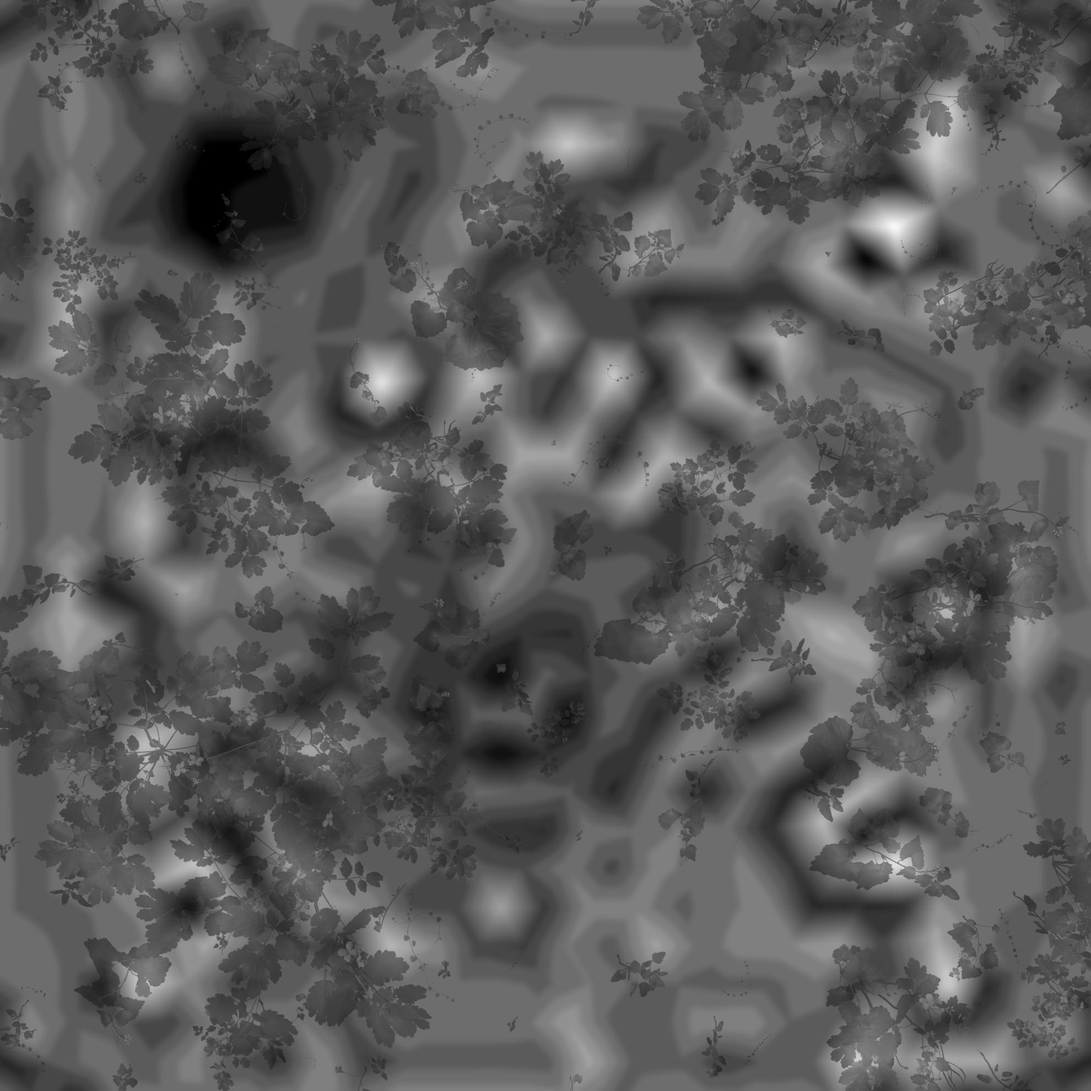landmine: (423, 598, 599, 779), (158, 115, 311, 279)
